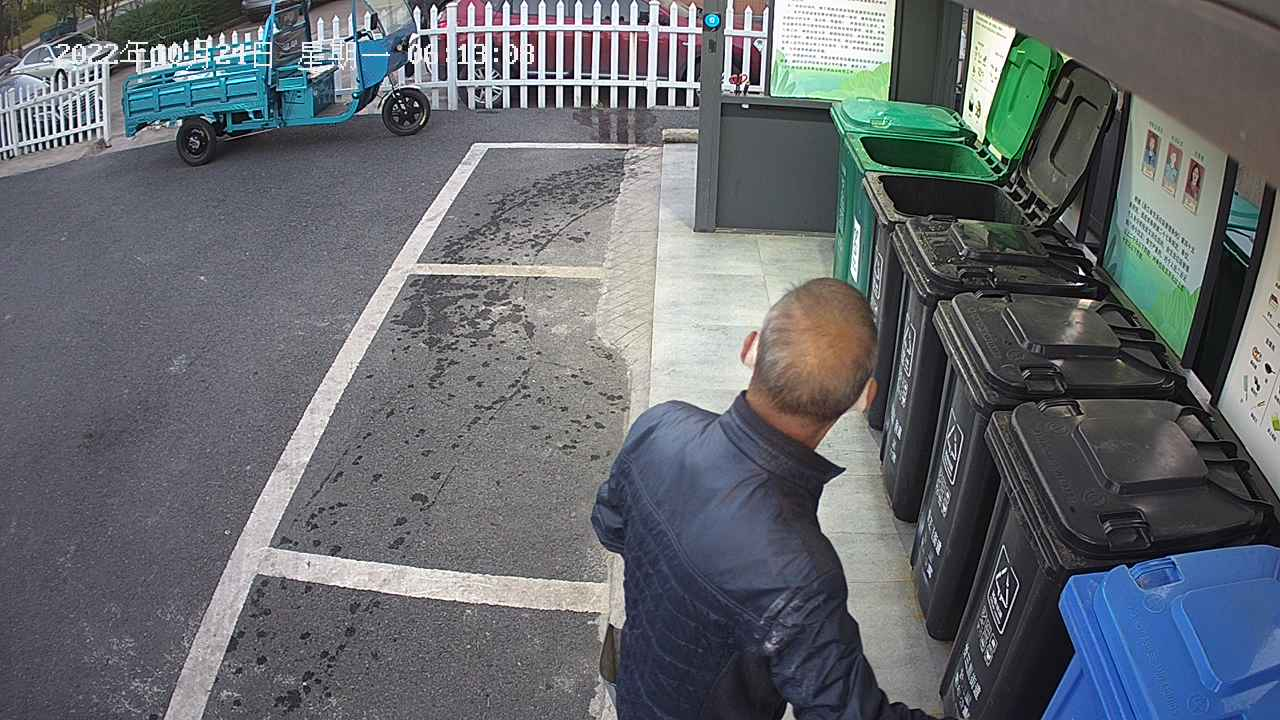person: (583, 271, 940, 720)
